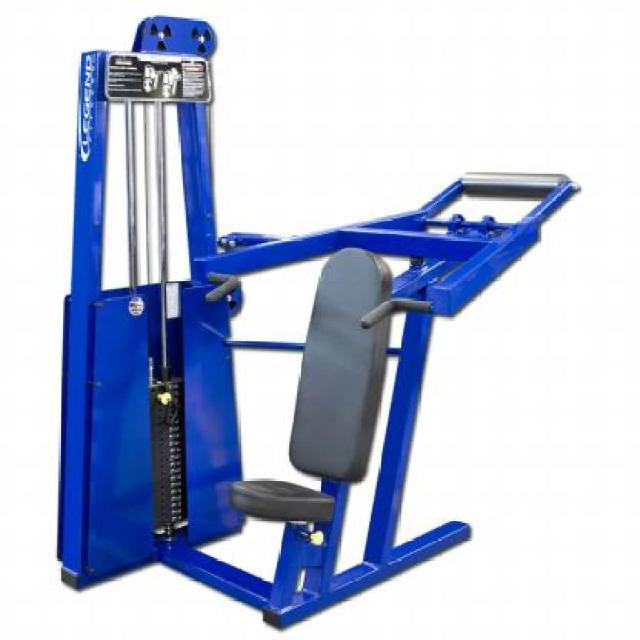shoulder press machine: (37, 8, 605, 637)
